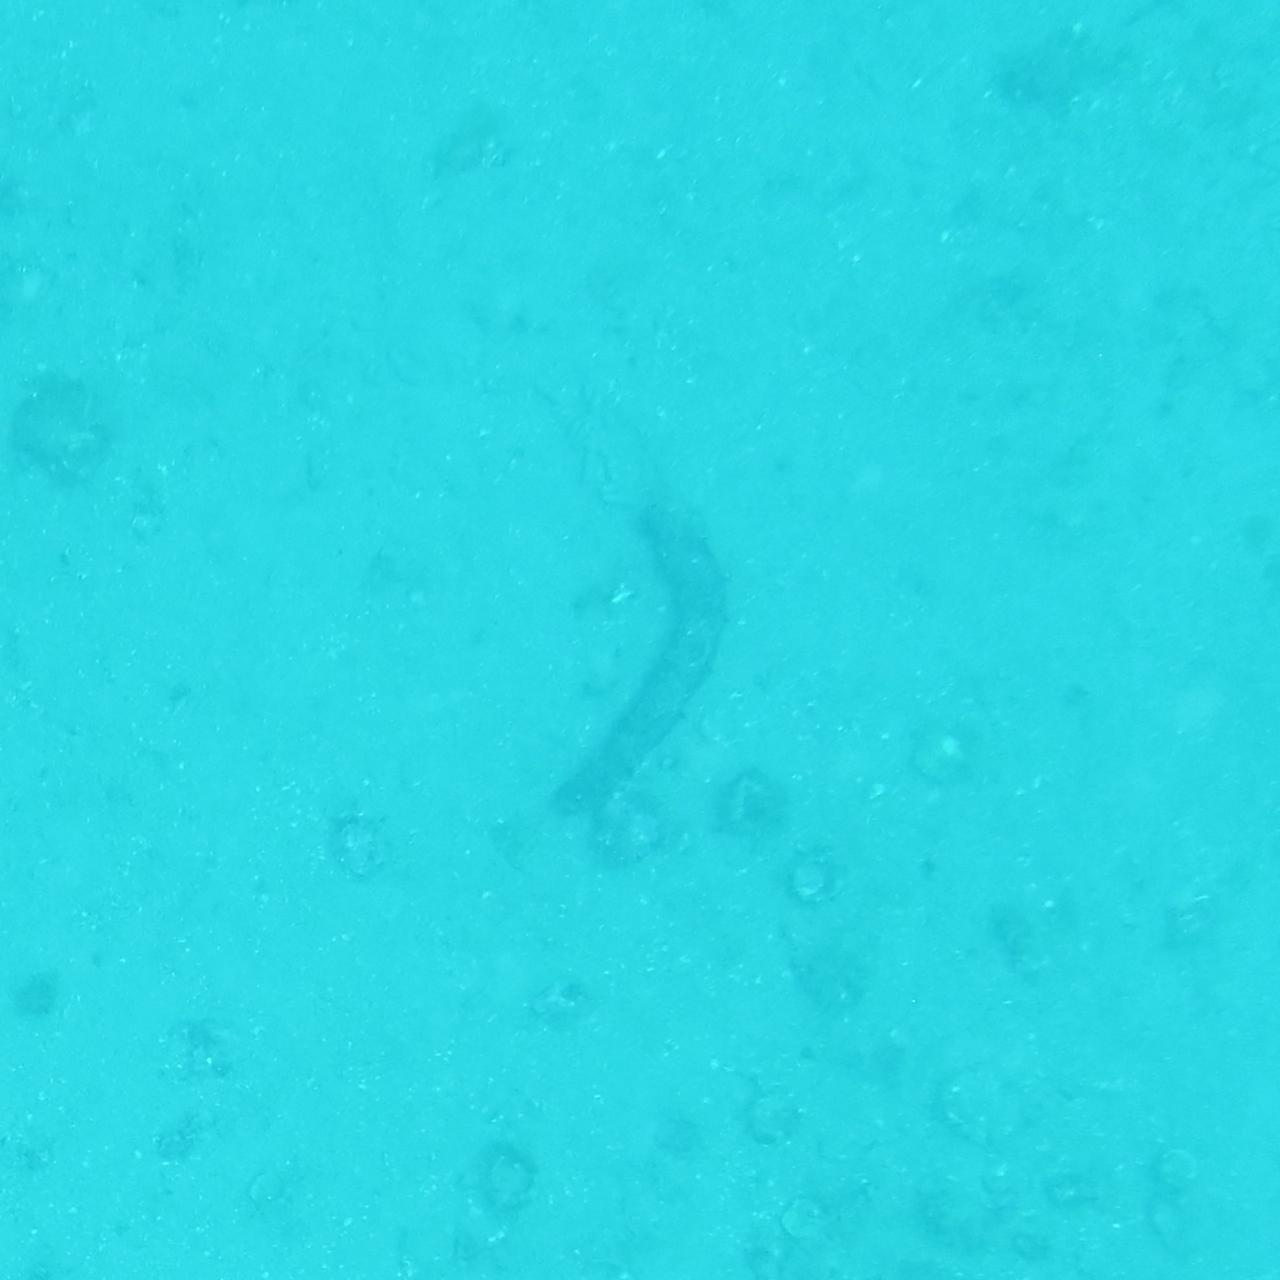Holothuria tubulosa: (536, 482, 744, 798)
